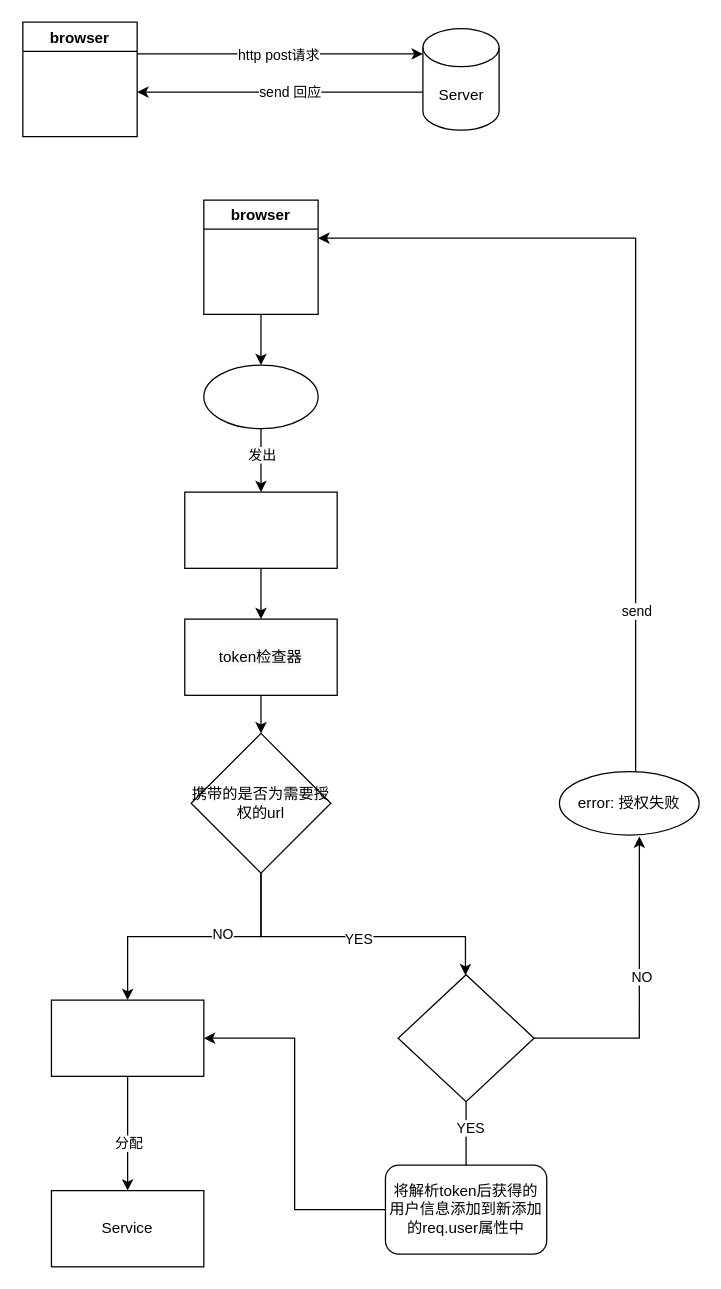
This 721x1289 diagram has some shape labels left out. Each missing label, with the box of its shape:
http header中是否带有合法的token: (397, 973, 534, 1102)
post请求: (203, 364, 318, 429)
服务器监听接口: (184, 491, 337, 568)
路由: (50, 999, 204, 1076)
